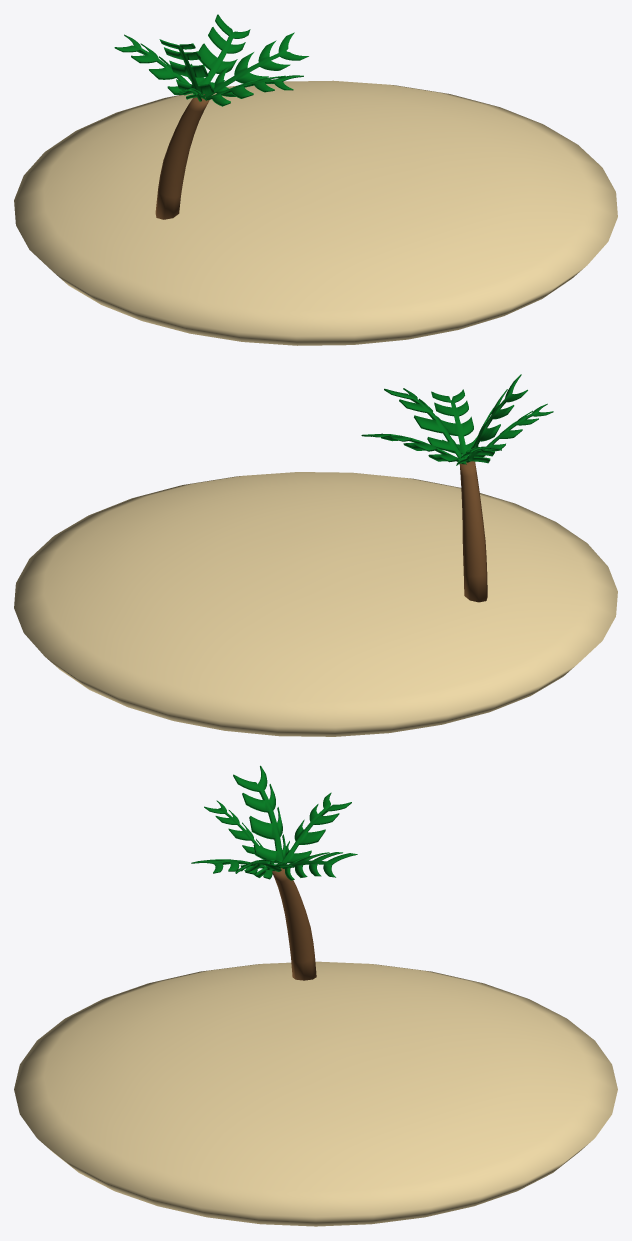
The model's file is Island.fbx.
The picture shows the model from 3 angles, top to bottom: view 1: azimuth 30°, elevation 25°; view 2: azimuth 150°, elevation 25°; view 3: azimuth 270°, elevation 25°; orthographic projection.
Parts seen in each view (by area): view 1: Island; view 2: Island; view 3: Island.
Part boxes in pixels (x1,y1,x2,y2): Island: (14,14,617,345); Island: (14,374,617,736); Island: (14,765,617,1226).
Size of the model in its own units: 3518 by 1915 by 3518.
